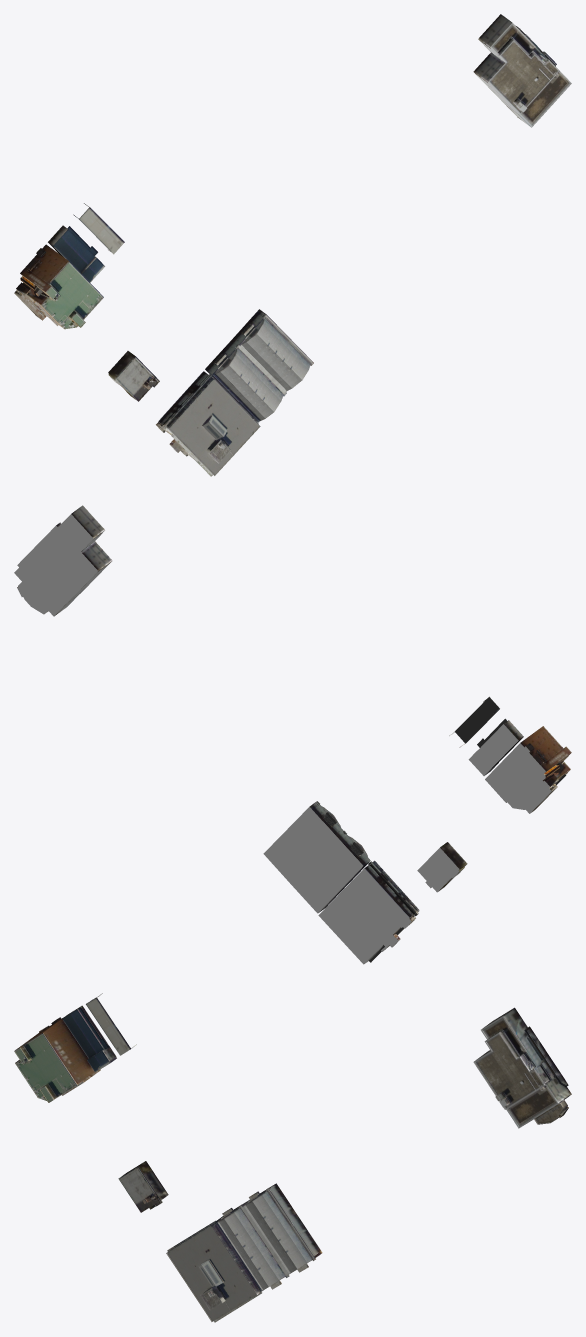
3 renders of one model, top to bottom at view 1: azimuth 30°, elevation 25°; view 2: azimuth 150°, elevation 25°; view 3: azimuth 330°, elevation 25°, orthographic.
Parts seen in each view (by area): view 1: 533936822_bldg_6677; view 2: 533936822_bldg_6677; view 3: 533936822_bldg_6677.
Part boxes in pixels (x1,y1,x2,y2): 533936822_bldg_6677: (14,14,571,476); 533936822_bldg_6677: (14,505,571,964); 533936822_bldg_6677: (14,993,571,1322).
Bounding box in the file's own units: 320 × 217 × 28.35.
Materials: 8 (7 with a texture image).
